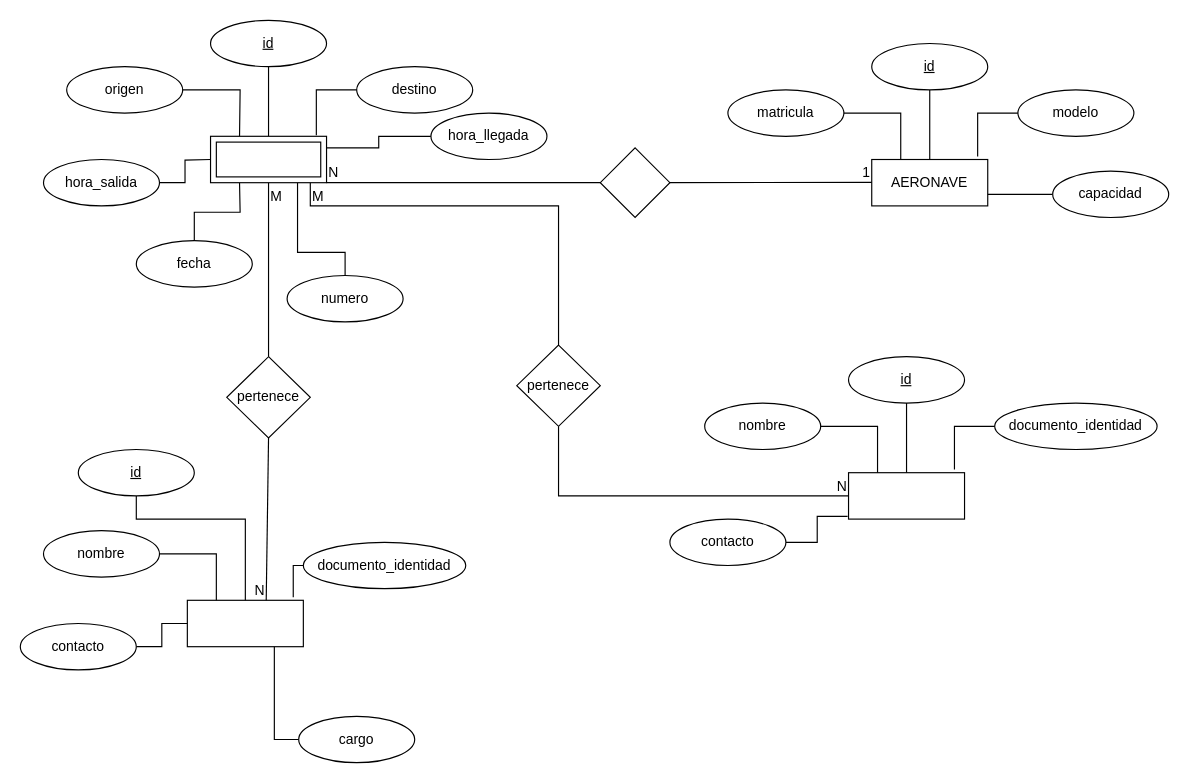
The diagram is 1189 pixels wide and 783 high, and some of its shapes have lost their labels. The centre of each missing label's shape, as x and y in pixels:
"PASAJERO" belongs at point 906,495.
"tiene" belongs at point 634,182.
"TRIPULANTE" belongs at point 244,623.
"VUELO" belongs at point 268,159.
